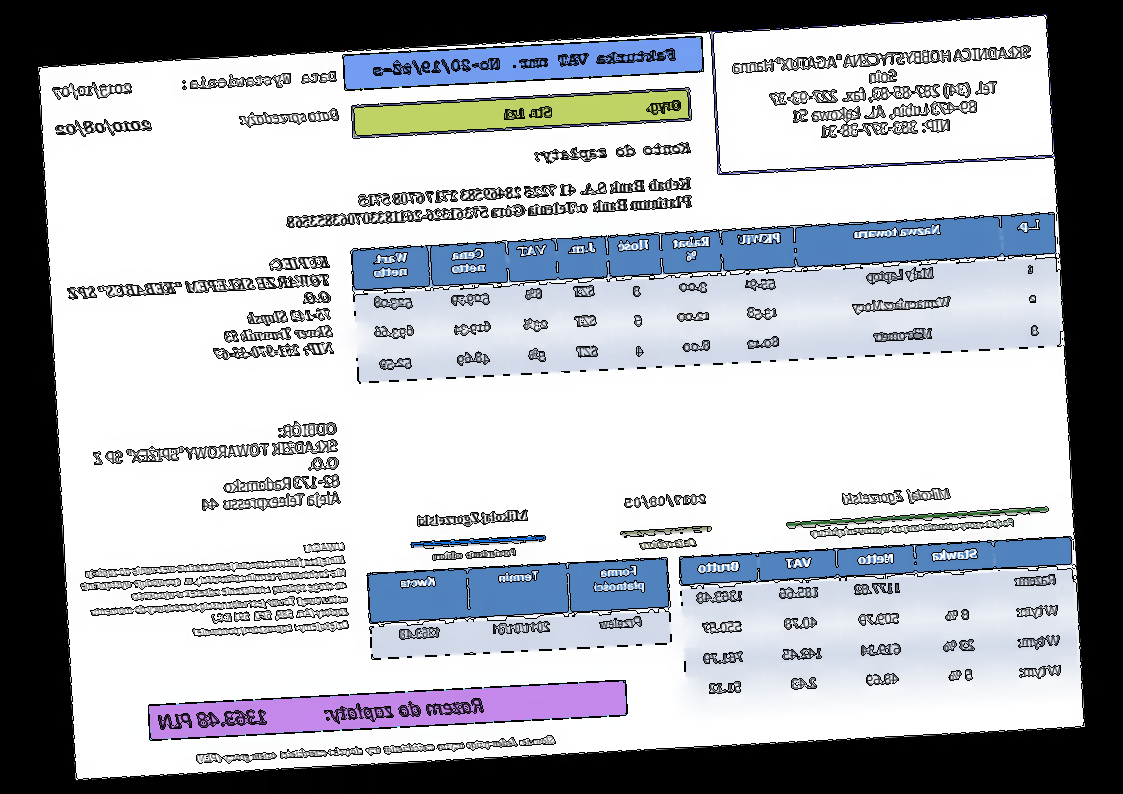Table: (350, 212, 1063, 385), (677, 535, 1082, 708), (366, 555, 674, 662)
TextBox: (58, 251, 337, 373), (730, 42, 1037, 148), (78, 540, 352, 646), (89, 416, 343, 523), (283, 174, 695, 231), (156, 693, 487, 735), (193, 732, 558, 767), (369, 44, 679, 80), (501, 95, 684, 125), (807, 516, 1017, 539), (531, 138, 694, 166), (180, 67, 339, 95), (415, 506, 533, 531), (837, 485, 952, 509), (54, 115, 154, 141), (238, 106, 342, 130), (623, 488, 710, 514), (51, 78, 135, 103), (431, 545, 520, 563), (637, 535, 699, 553)
